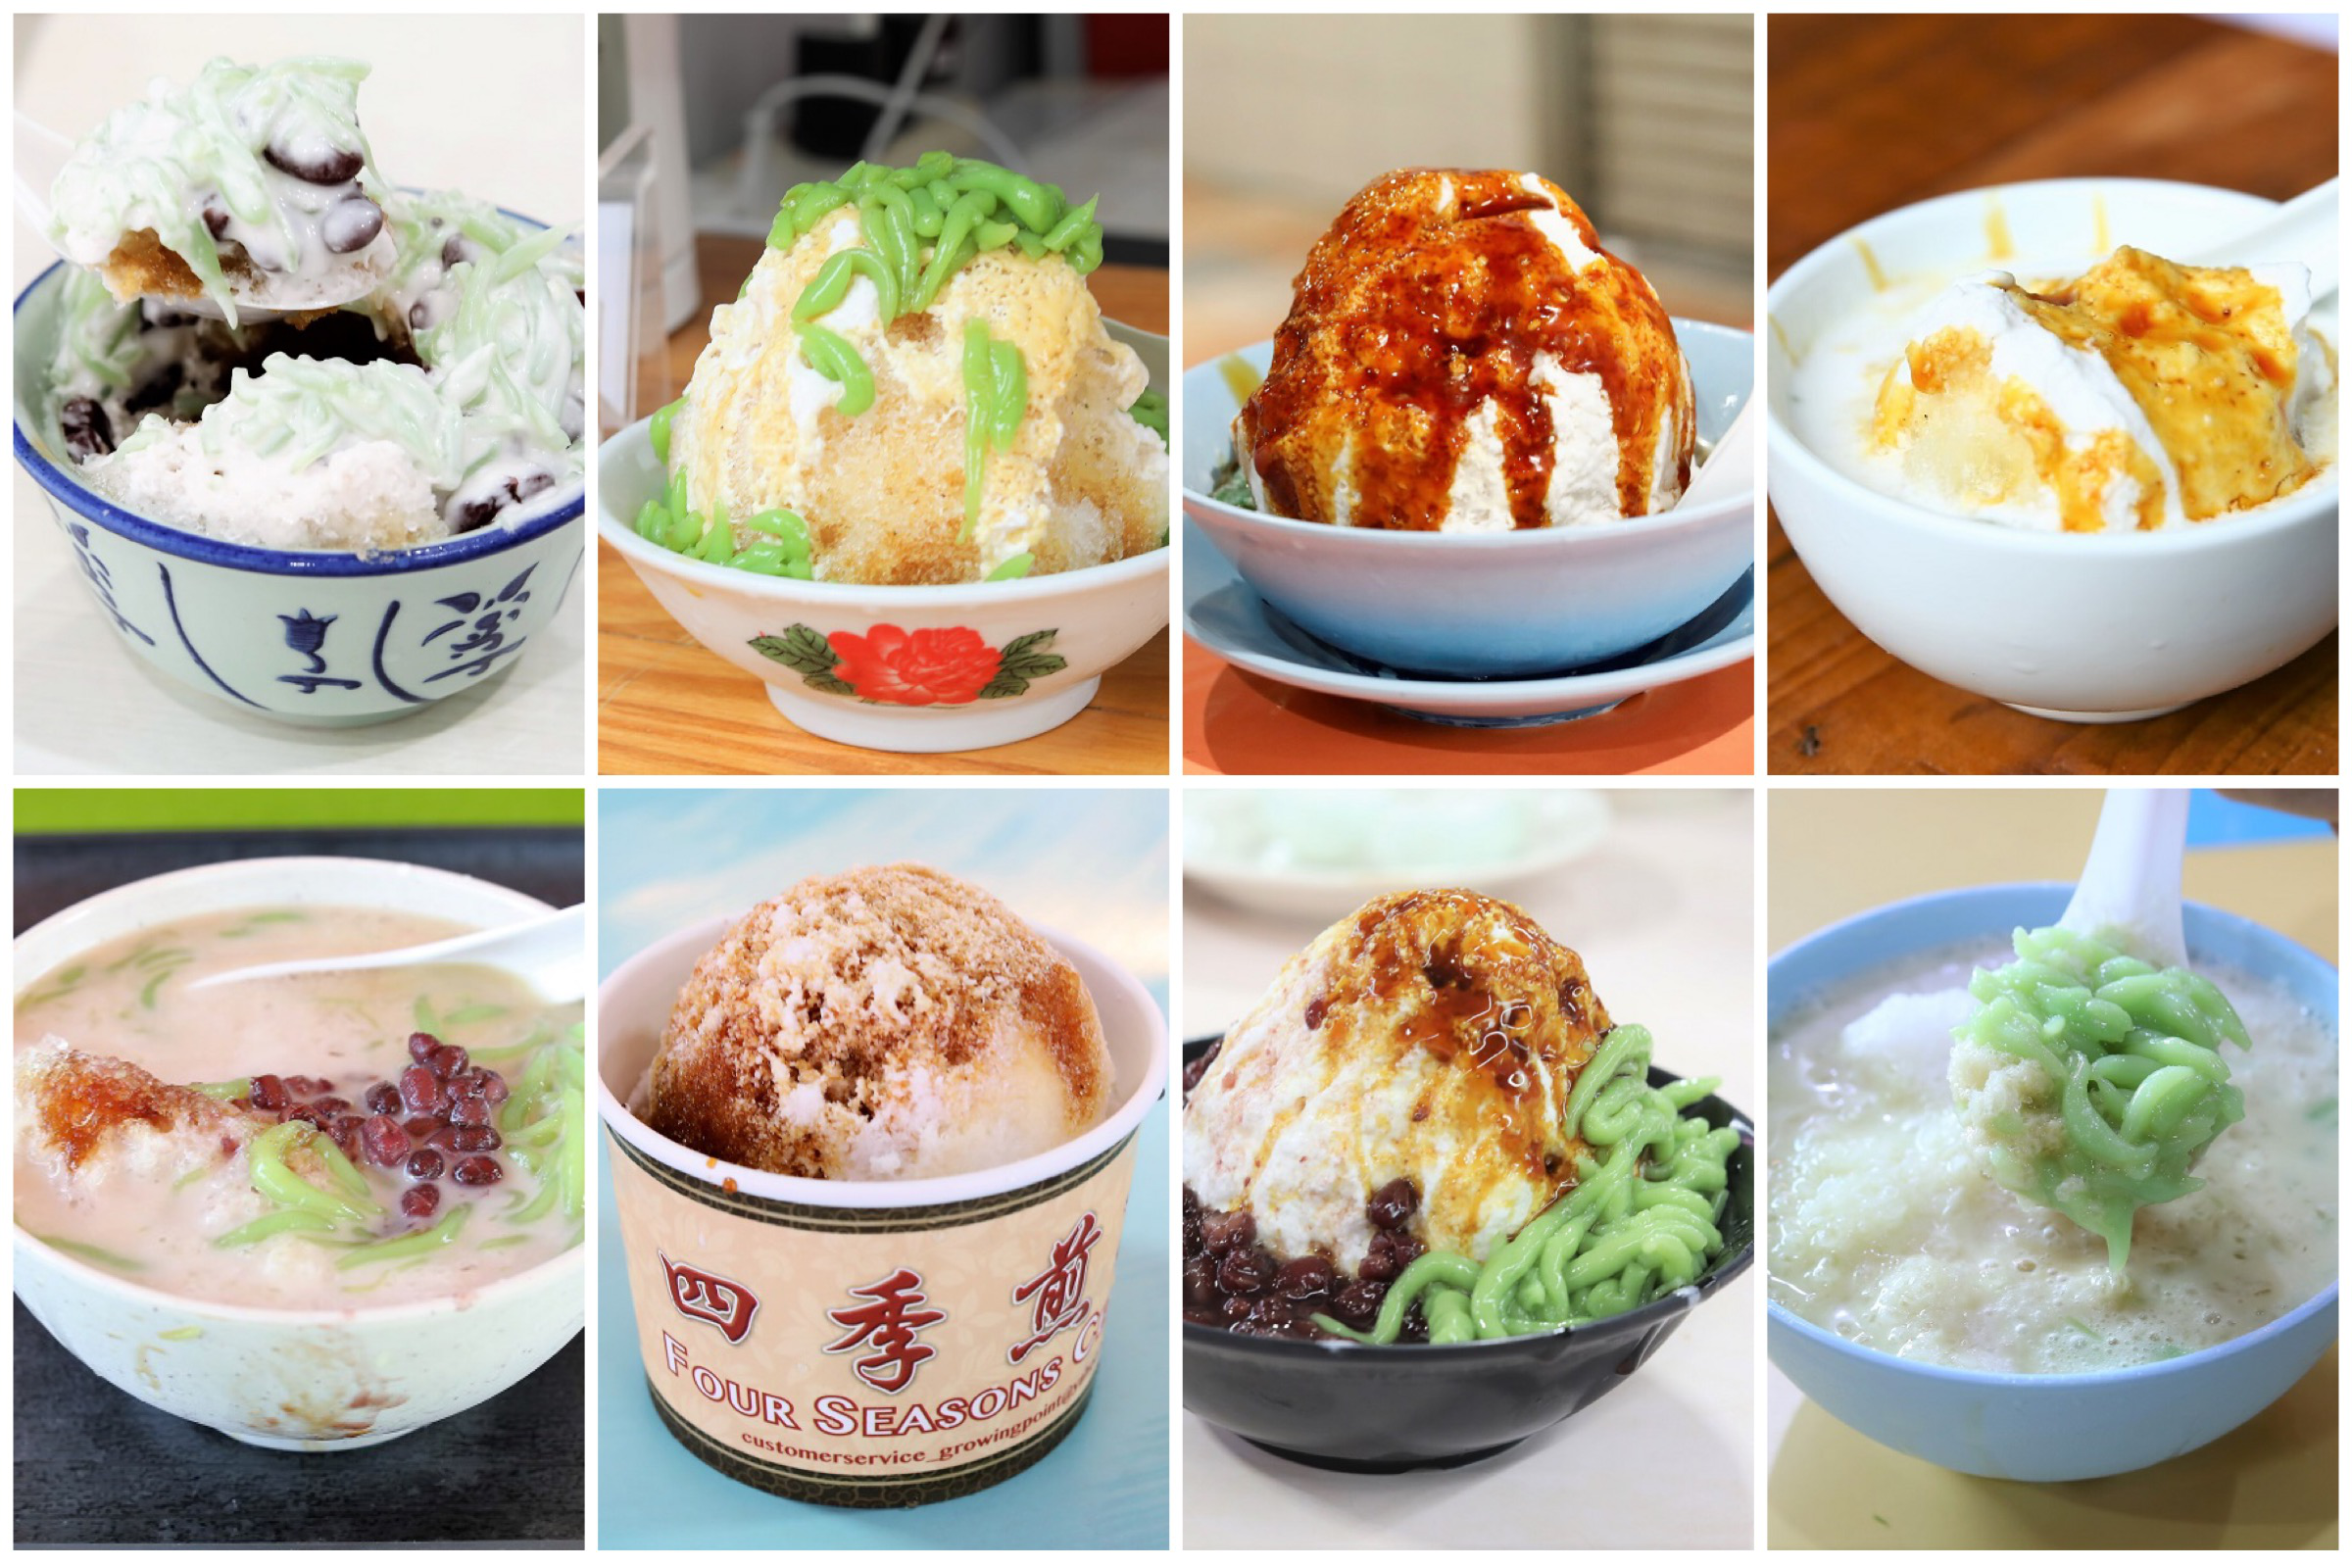Chendol: (1181, 857, 1747, 1473), (54, 26, 584, 654), (667, 117, 1141, 716)
